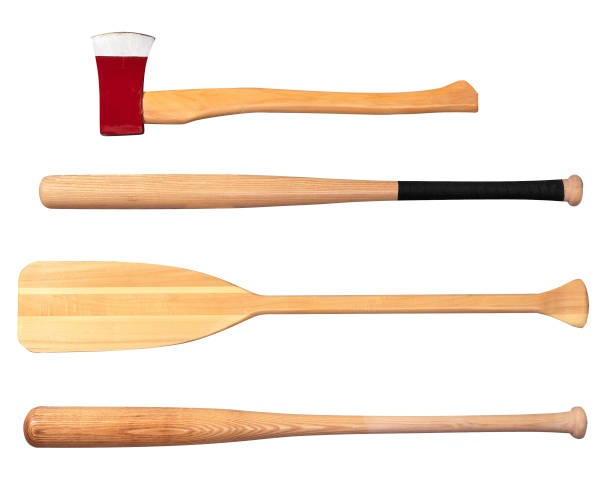bita: (24, 402, 584, 453)
